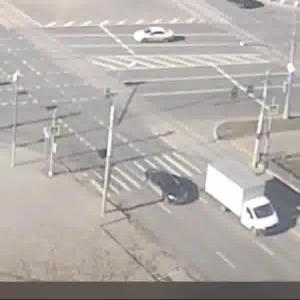car: (201, 154, 282, 241), (141, 169, 190, 208), (131, 24, 179, 46)
